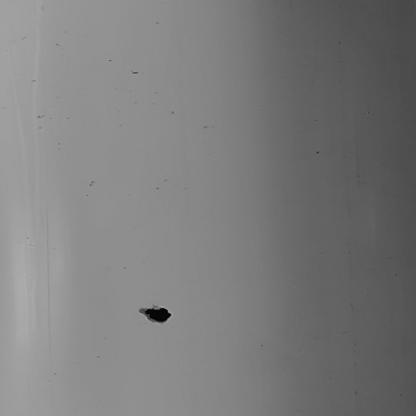kongdong: (114, 285, 190, 327)
